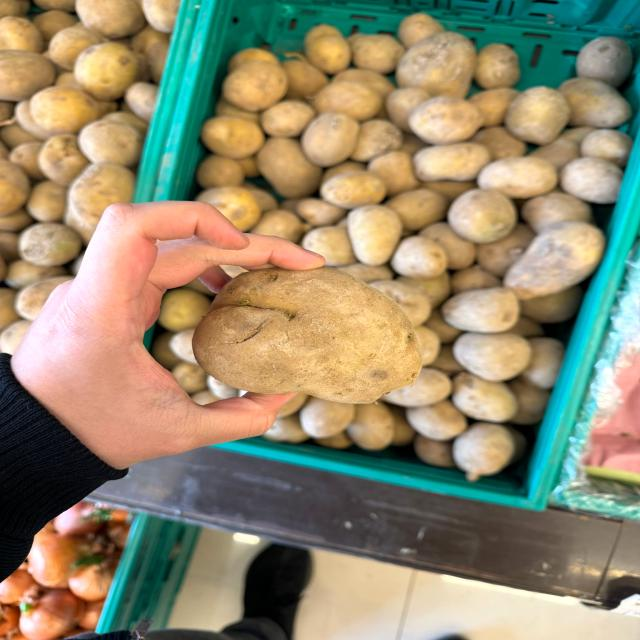potato: (190, 249, 434, 417)
